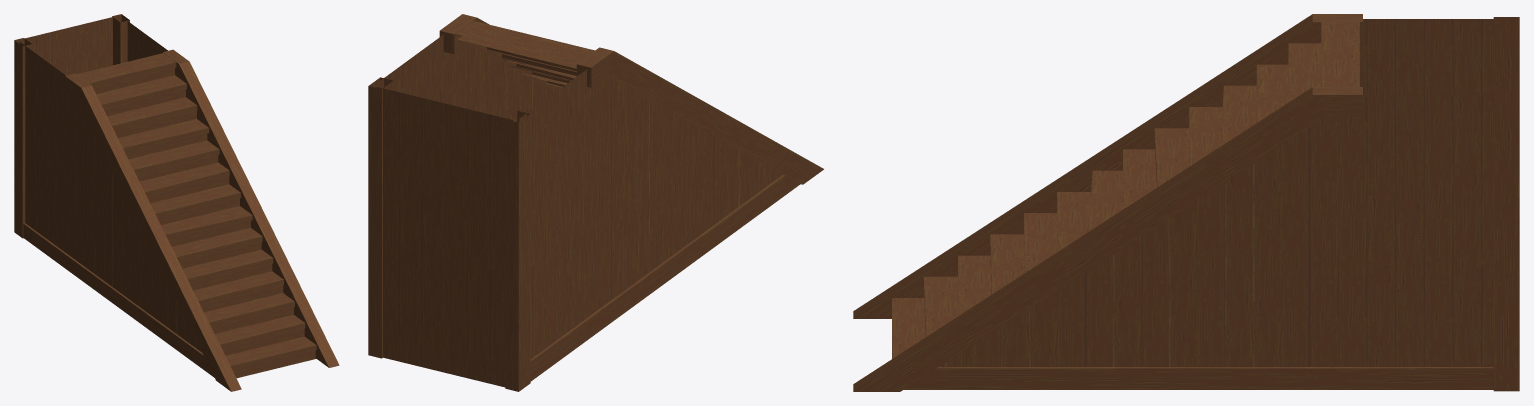
The model's file is Stair_Interior_SolidExtended.gltf.
3 renders of one model, left to right at view 1: azimuth 30°, elevation 25°; view 2: azimuth 150°, elevation 25°; view 3: azimuth 270°, elevation 25°, orthographic. The views are drawn at different scales.
Visible parts, largest first — view 1: Stair_Interior_SolidExtended; view 2: Stair_Interior_SolidExtended; view 3: Stair_Interior_SolidExtended.
Part boxes in pixels (bbox=[...]): Stair_Interior_SolidExtended: bbox=[14, 14, 339, 391]; Stair_Interior_SolidExtended: bbox=[368, 14, 823, 391]; Stair_Interior_SolidExtended: bbox=[853, 14, 1519, 391].
Size of the model in its own units: 1.77 by 3.05 by 6.16.
1 material, 1 textured.
